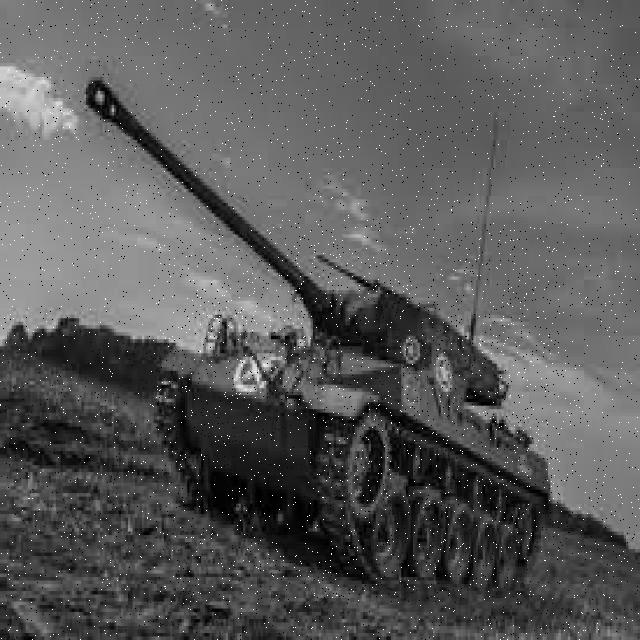MIL_MBT: (156, 236, 560, 603)
